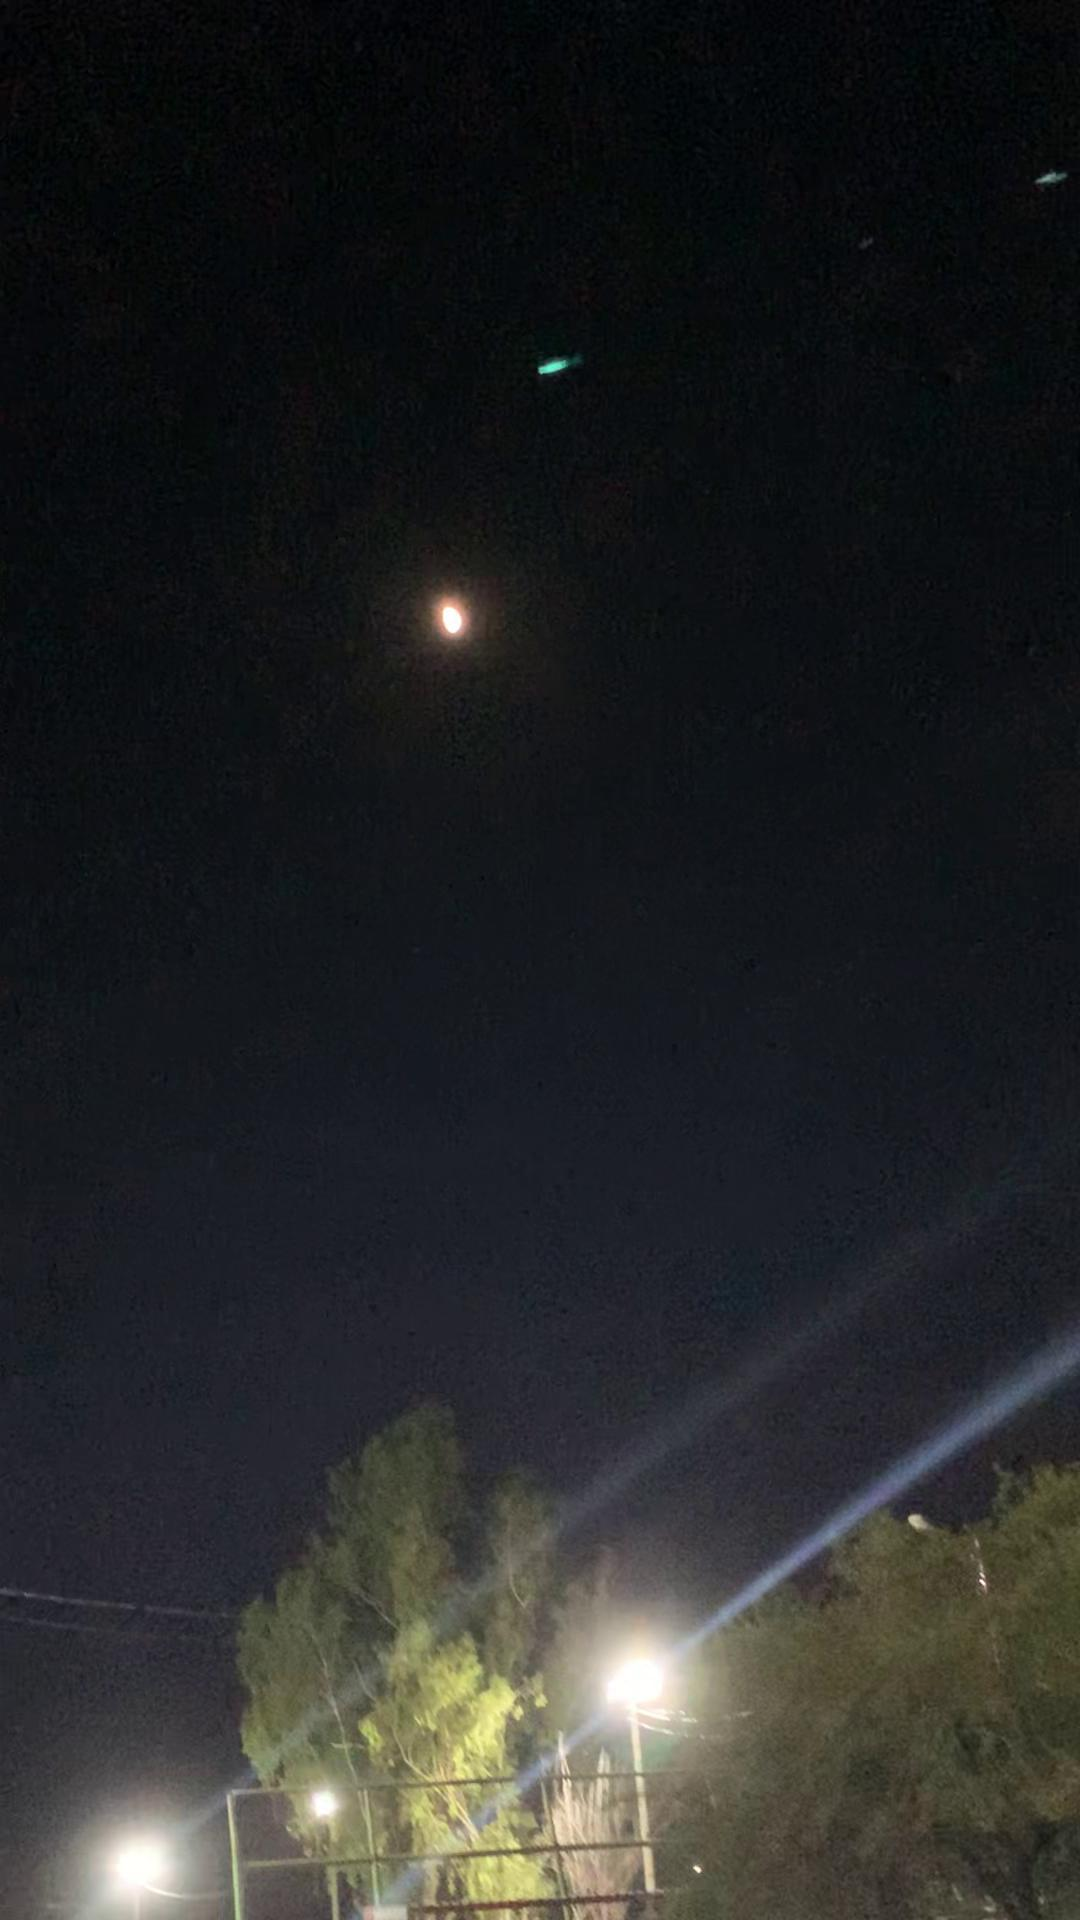moon: (411, 567, 488, 646)
